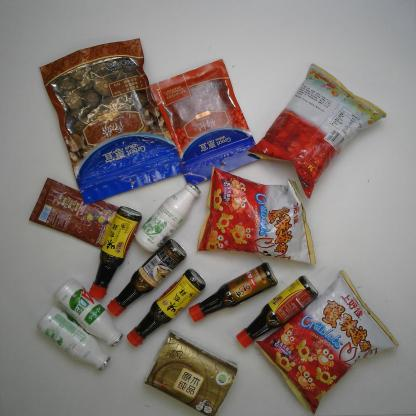Candy: (29, 177, 120, 247)
Dried Food: (38, 34, 186, 205)
Dried Fruit: (148, 57, 261, 185)
Milk: (130, 172, 200, 252), (38, 302, 115, 372), (54, 277, 126, 348)
Puffed Food: (256, 271, 398, 411), (248, 62, 386, 197), (196, 165, 316, 265)
Seasoner: (106, 238, 188, 318), (128, 268, 205, 346), (235, 276, 318, 348), (187, 259, 279, 323), (88, 205, 143, 301)
Tissue: (144, 328, 242, 412)
